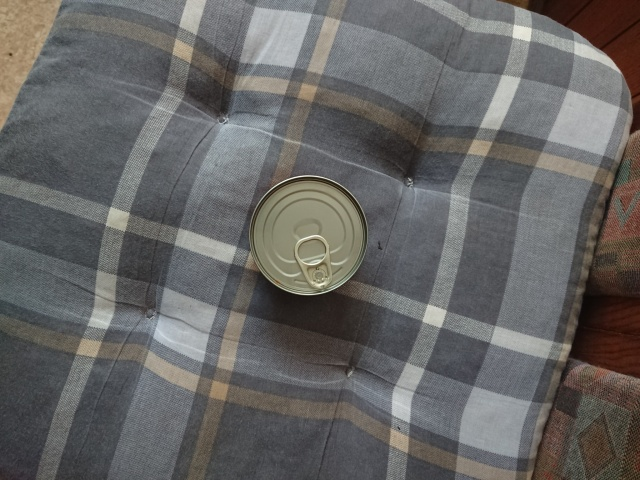Gavrilovic Pork Liver Pate 100g: (245, 171, 372, 301)
